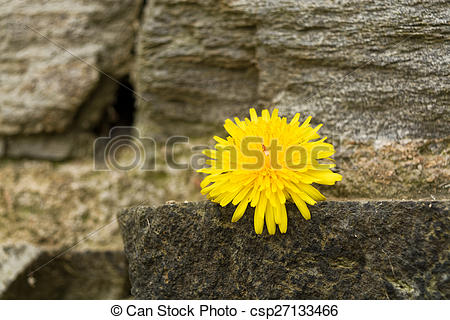dandelion: (219, 121, 329, 215)
